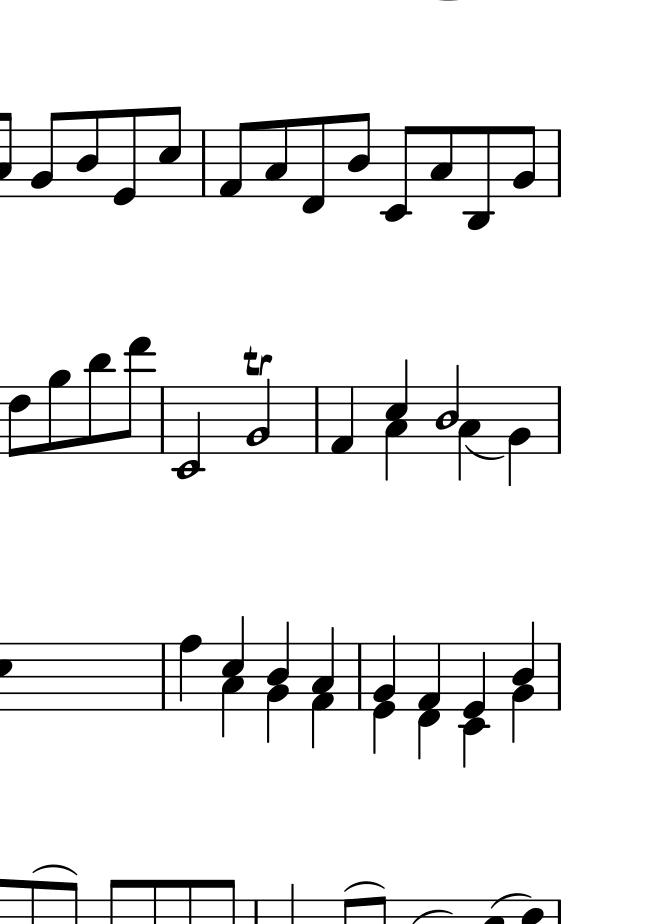2_-2: (176, 384, 204, 481)
2_2: (242, 377, 272, 453)
2_4: (433, 357, 461, 453)
4_-1_1: (417, 642, 442, 758)
4_-2_0: (460, 643, 491, 767)
4_0_2: (372, 634, 396, 755)
4_1: (329, 384, 357, 457)
4_1_3: (310, 626, 337, 750)
4_2: (507, 385, 531, 488)
4_2_4: (266, 621, 291, 745), (512, 622, 536, 747)
4_3: (458, 385, 480, 482)
4_3_5: (383, 359, 410, 485), (221, 617, 246, 739)
4_8: (176, 635, 204, 713)
8_-1: (299, 115, 328, 216)
8_-2: (380, 123, 418, 223)
8_-3: (462, 124, 494, 232)
8_0: (110, 108, 139, 209)
8_1: (217, 121, 252, 200)
8_11: (86, 352, 115, 457)
8_13: (120, 335, 156, 457)
8_2: (29, 111, 67, 198), (513, 125, 537, 199)
8_3: (263, 118, 290, 200), (428, 125, 455, 200)
8_4: (74, 110, 101, 197), (347, 112, 372, 199)
8_5: (157, 105, 183, 199)
8_6: (7, 384, 32, 459)
8_9: (46, 370, 74, 456)
Single_barline: (550, 386, 567, 454), (550, 130, 567, 196), (308, 385, 324, 453), (551, 641, 566, 713), (156, 643, 172, 708), (156, 386, 170, 452)
Slur: (462, 445, 506, 462), (409, 908, 452, 924), (491, 893, 530, 910), (31, 863, 78, 877), (345, 880, 384, 892)
Trill: (242, 342, 274, 379)
